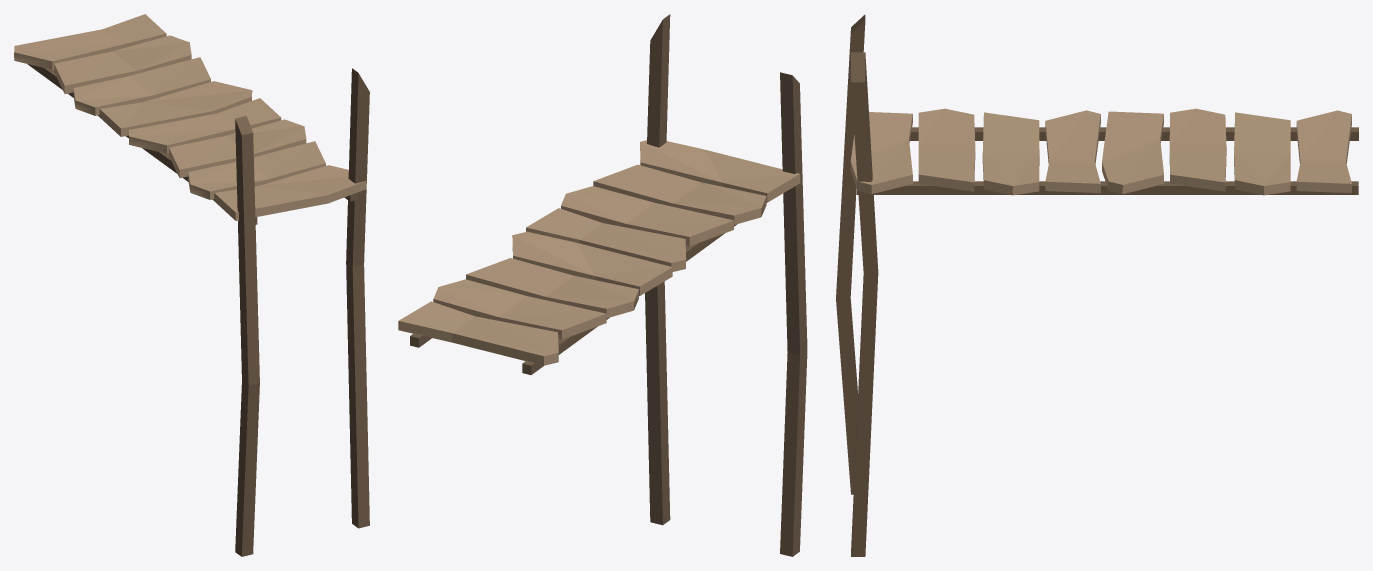
File: Bridge_2.fbx
The picture shows the model from 3 angles, left to right: view 1: azimuth 30°, elevation 25°; view 2: azimuth 150°, elevation 25°; view 3: azimuth 270°, elevation 25°; orthographic projection. The views are drawn at different scales.
Parts seen in each view (by area): view 1: Bridge_2; view 2: Bridge_2; view 3: Bridge_2.
Part boxes in pixels (<box>): Bridge_2: <box>14,14,369,556</box>; Bridge_2: <box>398,14,807,556</box>; Bridge_2: <box>836,14,1358,556</box>.
Size of the model in its own units: 146 by 439 by 417.
1 material, 1 textured.
